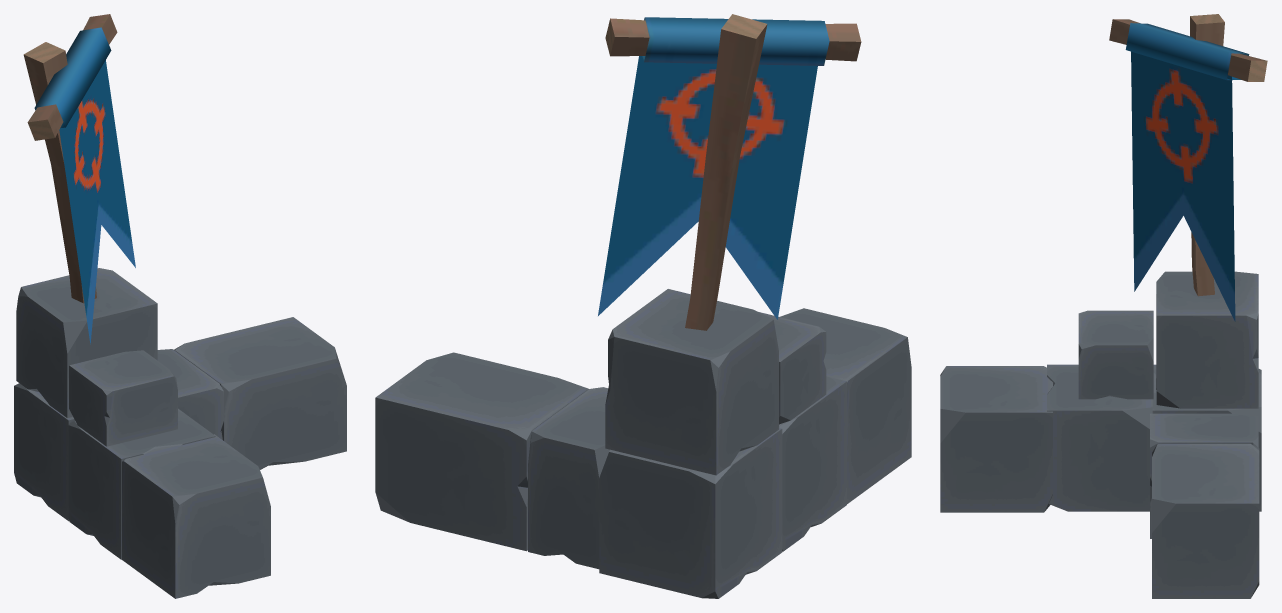
File: WallCorner-001_40_07_9937.fbx
3 renders of one model, left to right at view 1: azimuth 30°, elevation 25°; view 2: azimuth 150°, elevation 25°; view 3: azimuth 270°, elevation 25°, orthographic. The views are drawn at different scales.
Visible parts, largest first — view 1: 1B_Corner1, Flag3 (1), Wood1.002 (1), ClothTop3 (1), WoodTop (1); view 2: 1B_Corner1, Flag3 (1), Wood1.002 (1), ClothTop3 (1), WoodTop (1); view 3: 1B_Corner1, Flag3 (1), ClothTop3 (1), Wood1.002 (1), WoodTop (1).
Part boxes in pixels (x1,y1,x2,y2): 1B_Corner1: (14, 268, 346, 598); Flag3 (1): (59, 60, 135, 344); Wood1.002 (1): (23, 42, 96, 303); ClothTop3 (1): (34, 27, 111, 128); WoodTop (1): (27, 14, 117, 140); 1B_Corner1: (375, 289, 911, 598); Flag3 (1): (598, 56, 817, 319); Wood1.002 (1): (685, 14, 767, 330); ClothTop3 (1): (642, 17, 829, 65); WoodTop (1): (605, 18, 861, 61); 1B_Corner1: (940, 271, 1261, 598); Flag3 (1): (1131, 51, 1235, 321); ClothTop3 (1): (1125, 23, 1249, 80); Wood1.002 (1): (1190, 14, 1224, 296); WoodTop (1): (1109, 19, 1267, 81).
Bounding box in the file's own units: 3.53 × 4.59 × 3.02.
